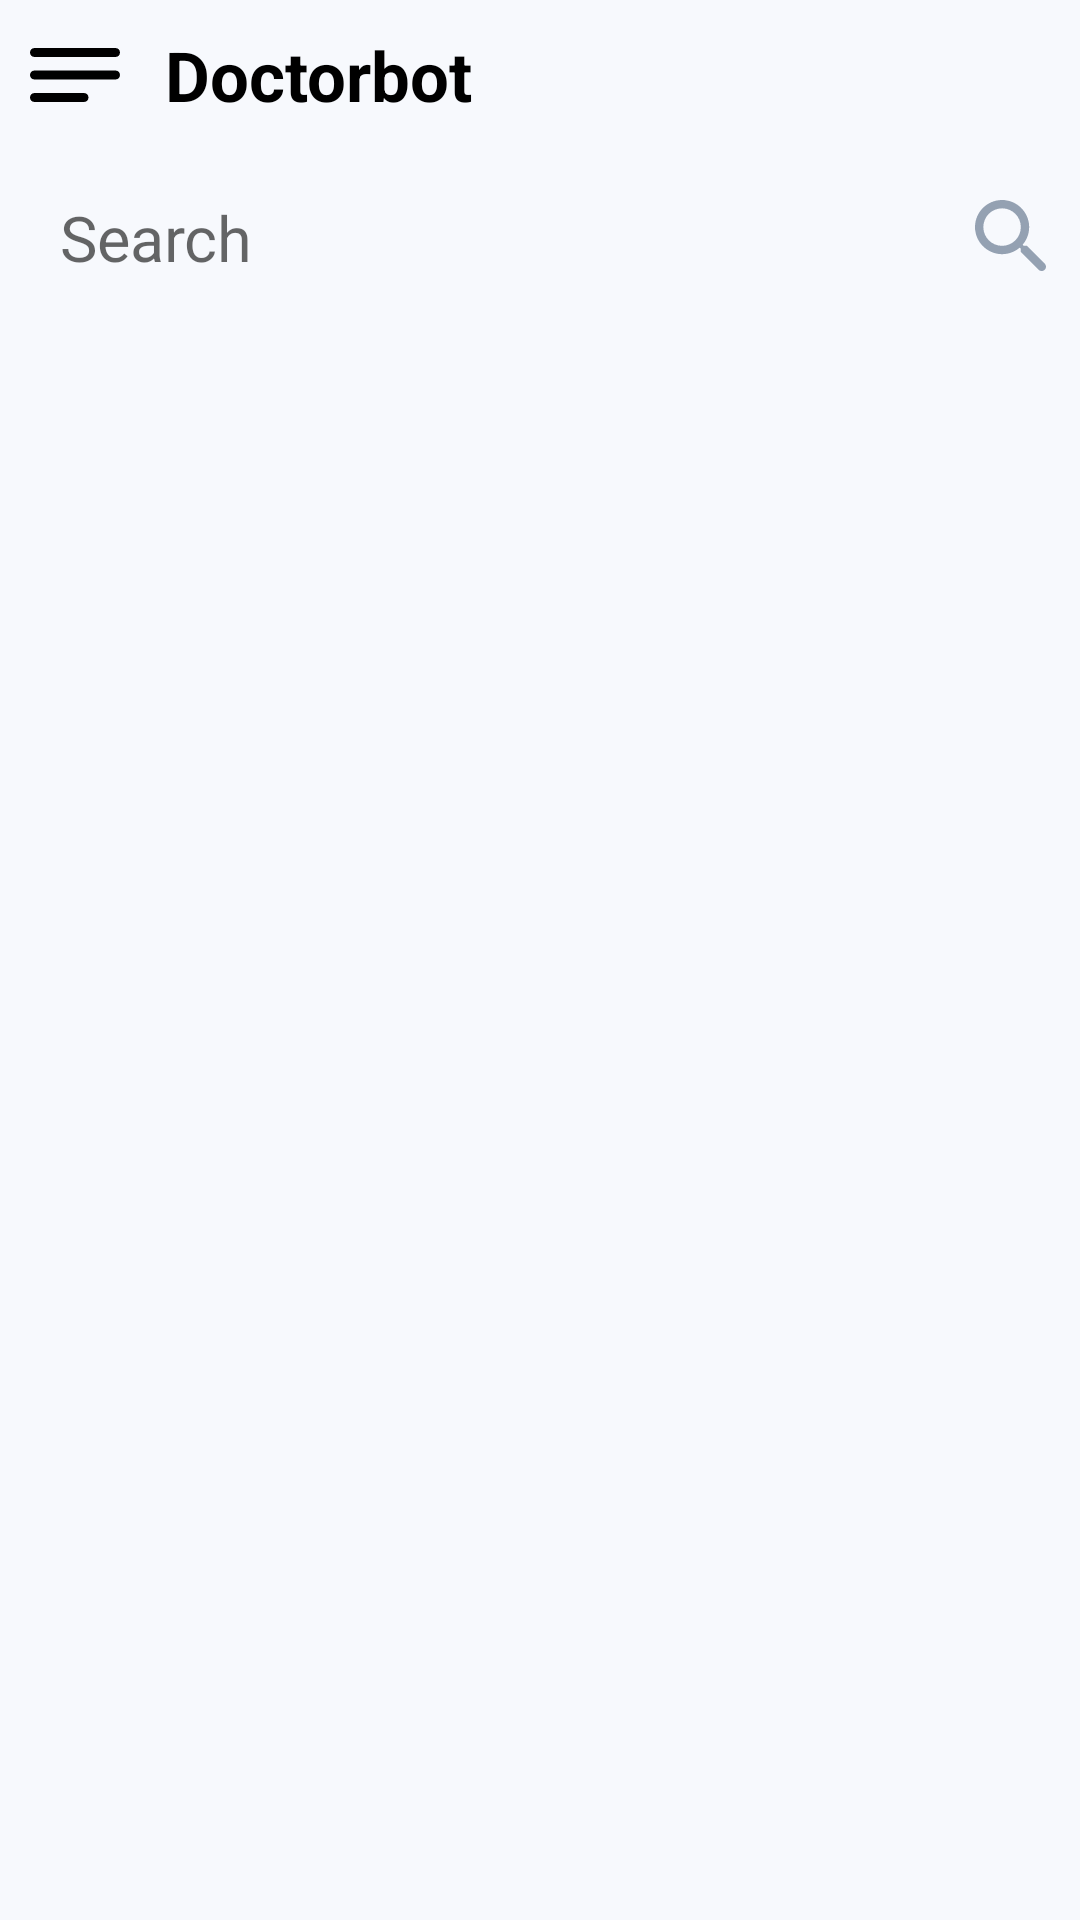

Icon bounding boxes for this 1080 × 1920 phone screenshot, format (x1, y1, x2, y2):
menu: (30, 48, 120, 102)
